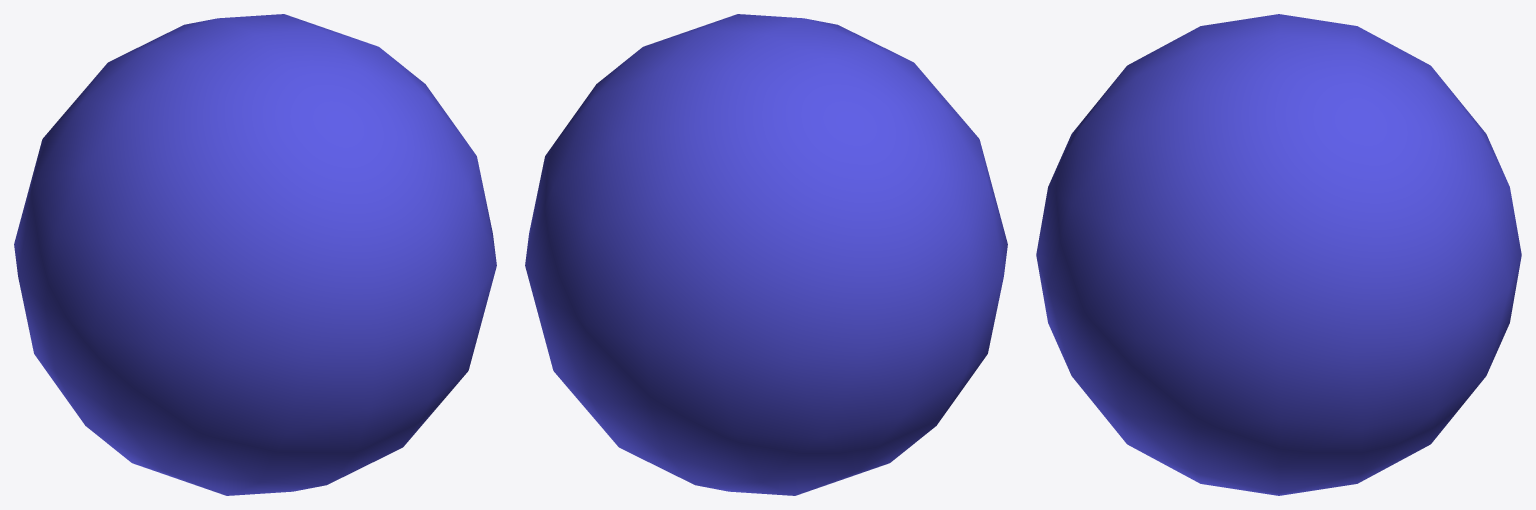
3 renders of one model, left to right at view 1: azimuth 30°, elevation 25°; view 2: azimuth 150°, elevation 25°; view 3: azimuth 270°, elevation 25°, orthographic.
Parts seen in each view (by area): view 1: GeoSphere001; view 2: GeoSphere001; view 3: GeoSphere001.
Part boxes in pixels (x1,y1,x2,y2): GeoSphere001: [14, 14, 496, 495]; GeoSphere001: [525, 14, 1007, 495]; GeoSphere001: [1036, 14, 1521, 495].
Bounding box in the file's own units: 10 × 10 × 10.
